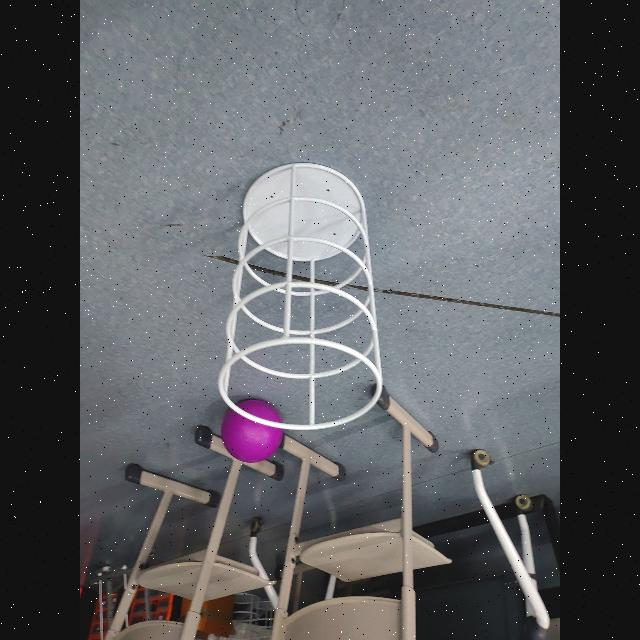S: (214, 159, 386, 433)
